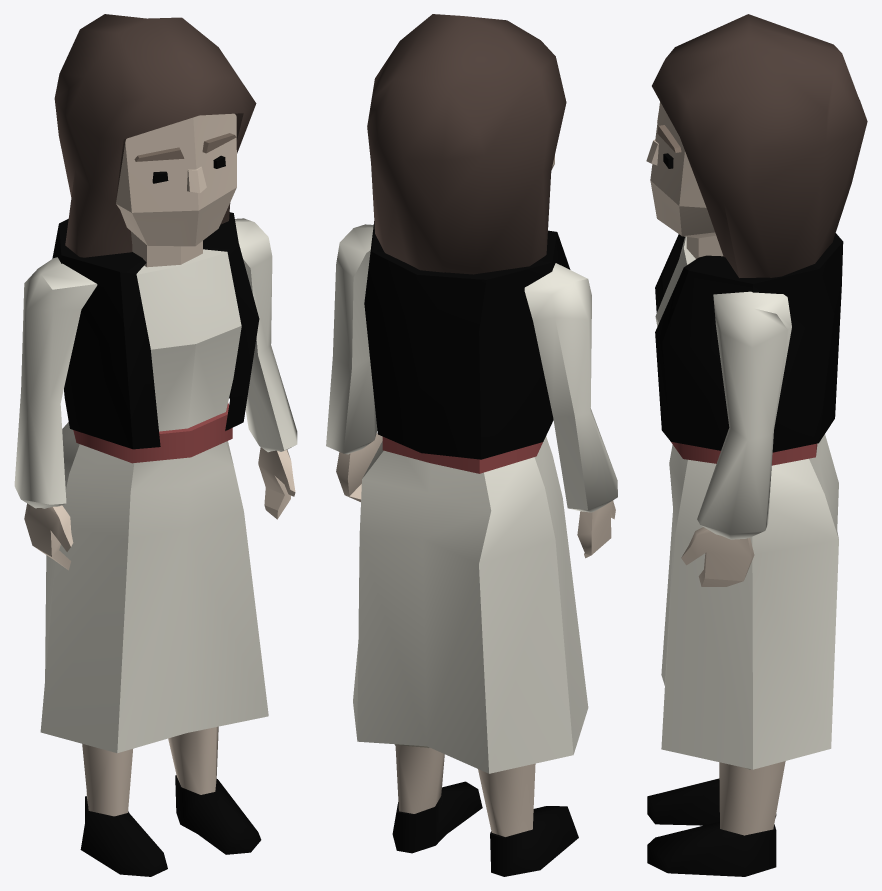
Rendered from peasant female.obj.
3 views of the same model, side by side, from view 1: azimuth 30°, elevation 25°; view 2: azimuth 150°, elevation 25°; view 3: azimuth 270°, elevation 25° (orthographic). The views are drawn at different scales.
Visible parts, largest first — view 1: peasant_female_Mesh1_Model; view 2: peasant_female_Mesh1_Model; view 3: peasant_female_Mesh1_Model.
Boxes of the visible parts, x1=… form: peasant_female_Mesh1_Model: x1=14, y1=14, x2=297, y2=876; peasant_female_Mesh1_Model: x1=326, y1=14, x2=617, y2=876; peasant_female_Mesh1_Model: x1=646, y1=14, x2=867, y2=876.
Bounding box in the file's own units: 0.5457 × 1.53 × 0.3751.
